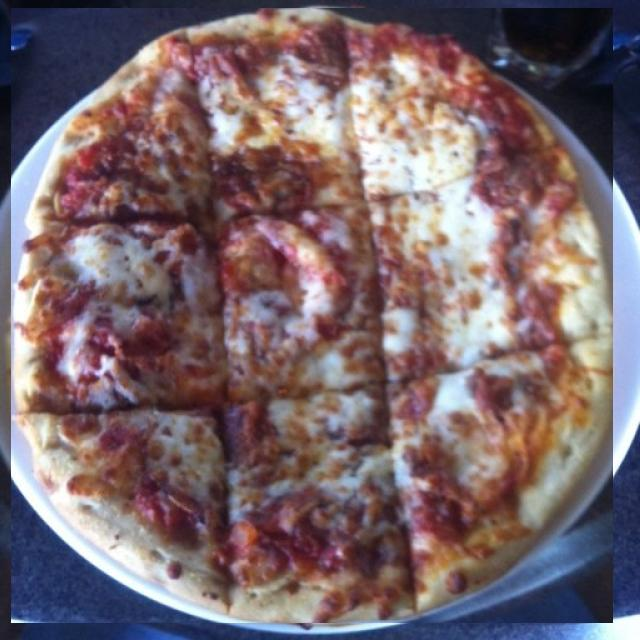pizza: (11, 8, 613, 623)
